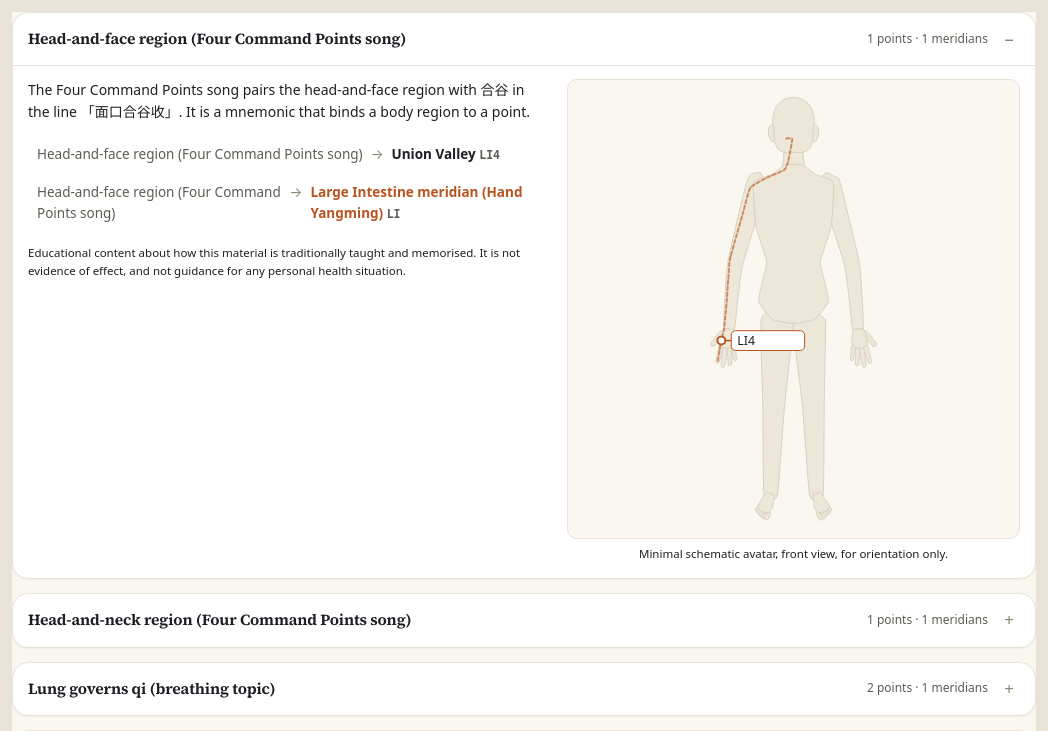
topic info cards › expands and collapses a card
Click the 4th button. click: click(220, 620)
box: [13,594,1035,646]
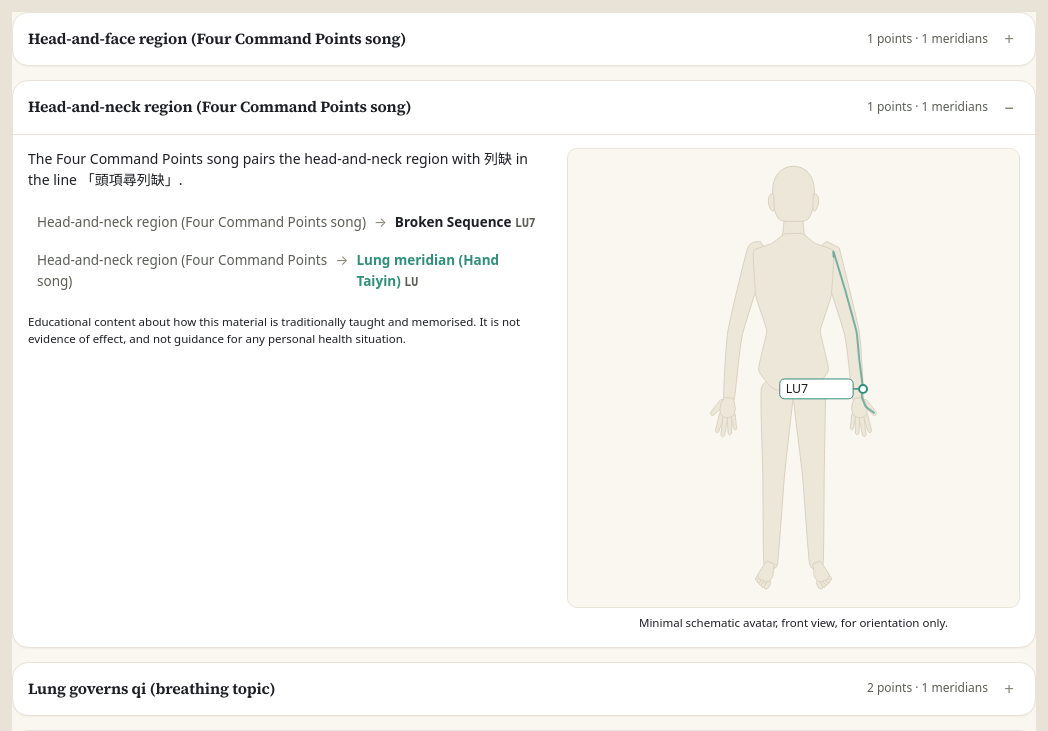
Now the 2nd button is expanded, box [13,81,1035,134]
